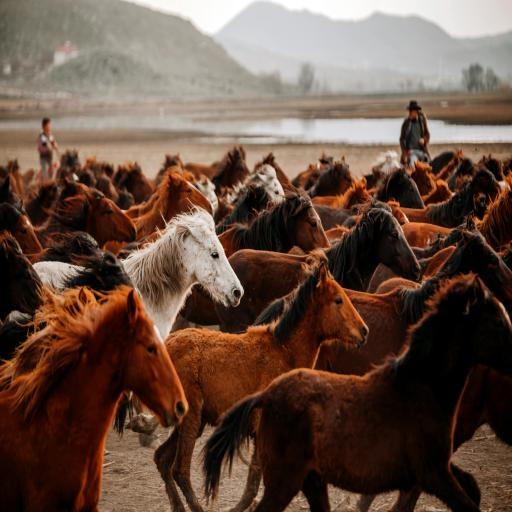horse: (204, 275, 511, 511), (155, 264, 367, 511), (0, 288, 187, 510), (317, 230, 511, 374), (124, 209, 243, 337), (181, 250, 327, 332), (326, 200, 420, 291), (216, 251, 313, 332), (219, 190, 330, 257), (401, 170, 499, 227), (134, 168, 213, 238), (39, 190, 136, 246), (454, 365, 511, 452), (34, 252, 134, 291), (0, 231, 41, 321), (216, 183, 270, 234), (476, 176, 511, 249), (226, 164, 284, 205), (28, 232, 102, 264), (0, 203, 42, 254), (374, 168, 424, 209), (208, 145, 250, 193), (312, 178, 370, 209), (309, 161, 356, 197), (113, 162, 153, 203), (254, 152, 293, 191), (26, 180, 59, 225), (403, 222, 452, 248), (314, 204, 356, 230), (0, 177, 28, 216), (446, 158, 477, 192), (96, 174, 126, 209), (433, 150, 465, 180), (155, 154, 183, 188), (292, 163, 325, 190), (411, 161, 435, 196), (422, 180, 452, 206), (478, 154, 503, 181), (431, 151, 455, 175), (115, 187, 135, 211)
